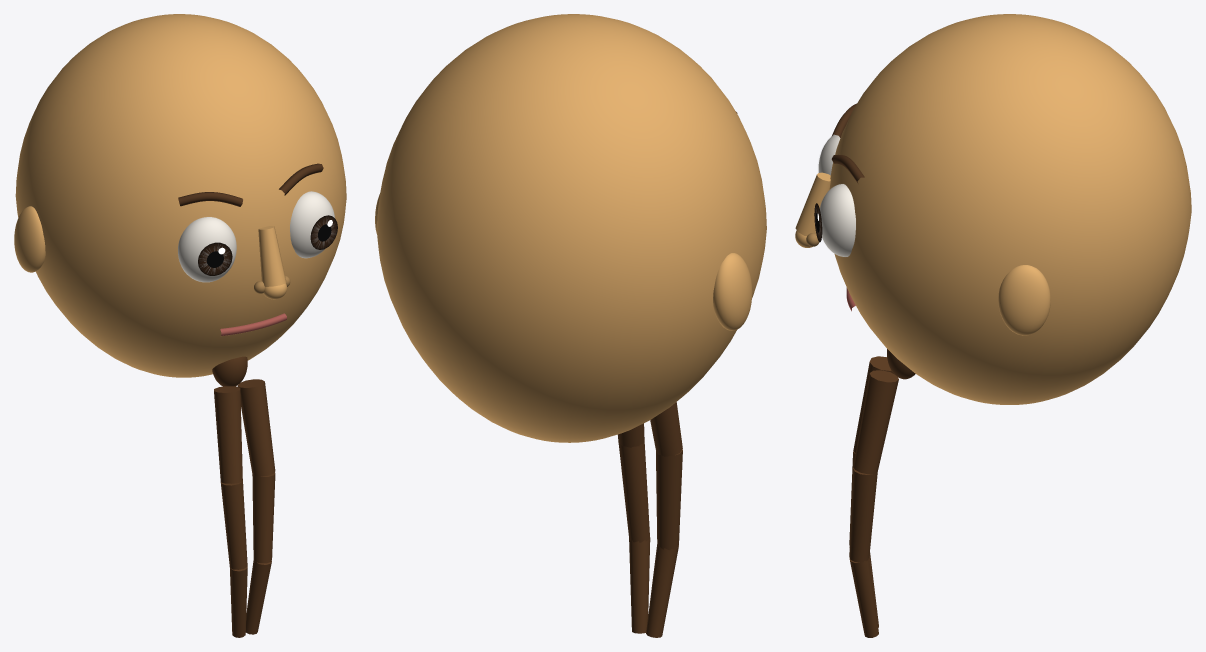
Rendered from 09-tressee.glb.
3 views of the same model, side by side, from view 1: azimuth 30°, elevation 25°; view 2: azimuth 150°, elevation 25°; view 3: azimuth 270°, elevation 25° (orthographic). The views are drawn at different scales.
Size of the model in its own units: 0.3087 by 0.5315 by 0.3166.
10 materials, 1 textured.
